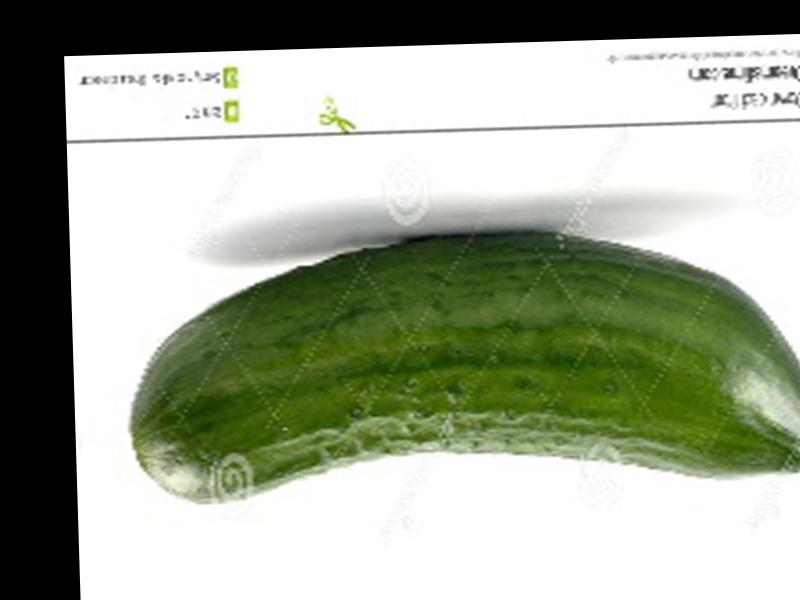Cucumber: (125, 223, 800, 497)
